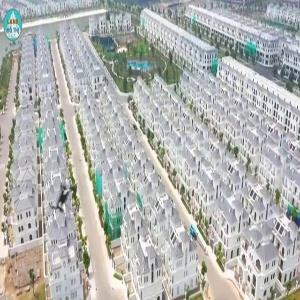drone: (15, 152, 112, 249)
